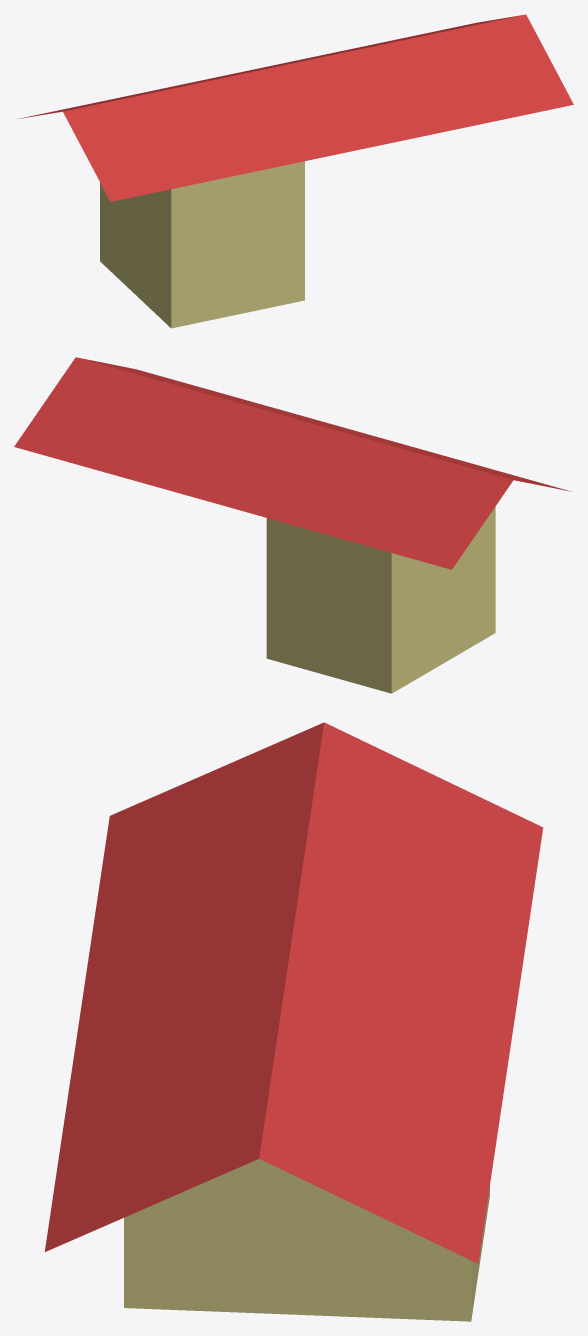
3 renders of one model, top to bottom at view 1: azimuth 30°, elevation 25°; view 2: azimuth 150°, elevation 25°; view 3: azimuth 270°, elevation 25°, orthographic. The views are drawn at different scales.
Bounding box in the file's own units: 18.55 × 8.73 × 7.69.
